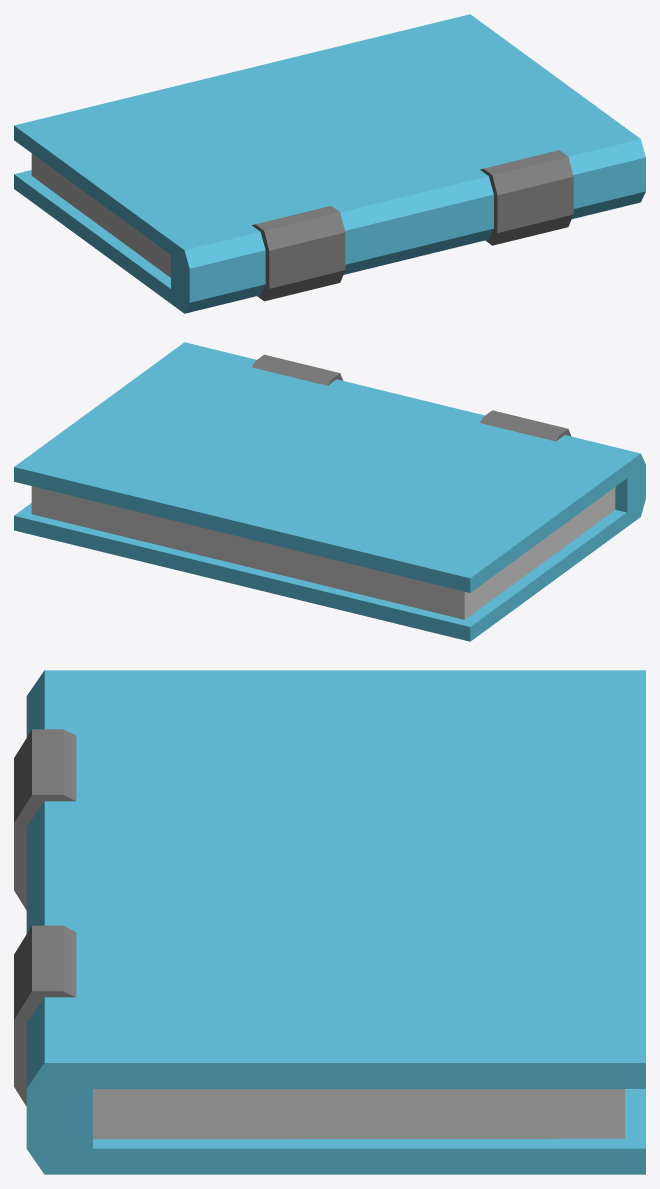
Rendered from Livre.fbx.
The picture shows the model from 3 angles, top to bottom: view 1: azimuth 30°, elevation 25°; view 2: azimuth 150°, elevation 25°; view 3: azimuth 270°, elevation 25°; orthographic projection. The views are drawn at different scales.
Visible parts, largest first — view 1: Livre; view 2: Livre; view 3: Livre.
Boxes of the visible parts, left/top/right/bottom form: Livre: left=14, top=14, right=645, bottom=313; Livre: left=14, top=342, right=645, bottom=641; Livre: left=14, top=670, right=645, bottom=1174.
Bounding box in the file's own units: 35.03 × 5.17 × 23.83.
